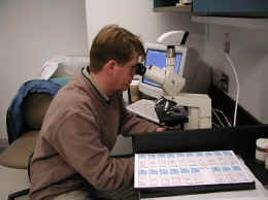person without safety: (41, 22, 149, 137)
